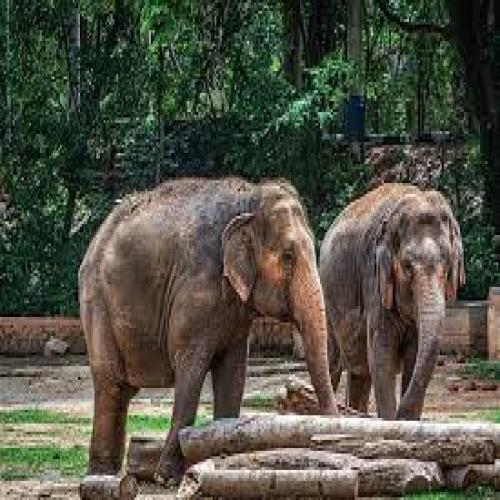asian_elephant-endangered: (76, 174, 339, 492), (320, 177, 468, 424)
